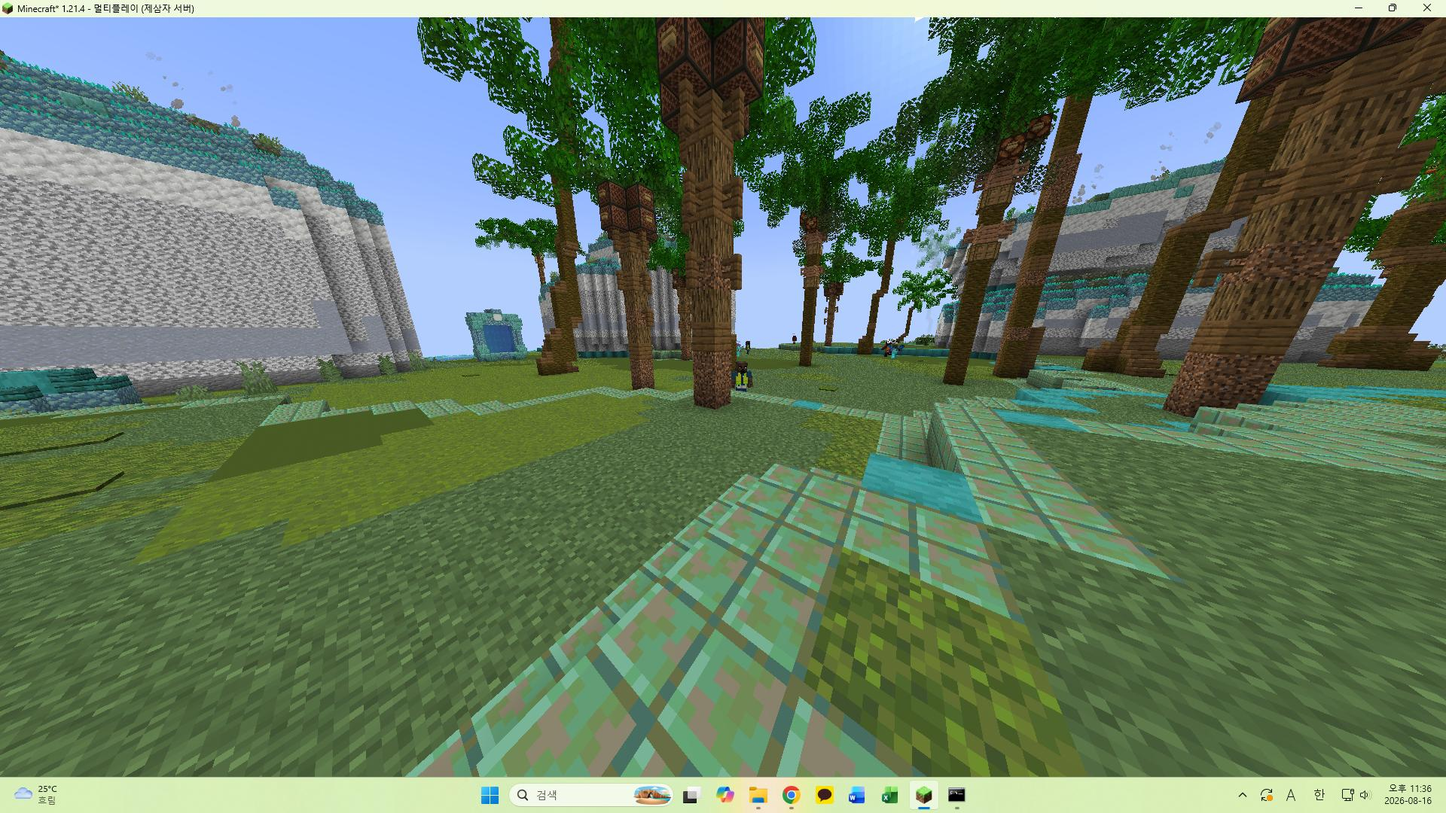Guardian: (729, 360, 752, 391)
